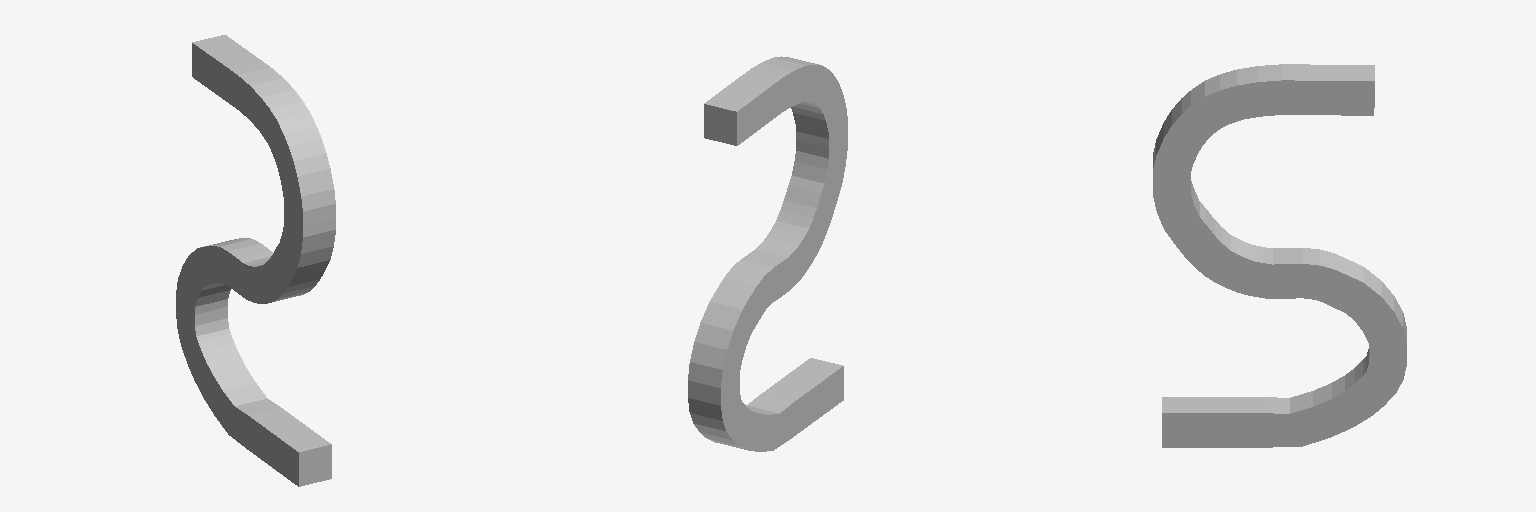
The model's file is Speed.obj.
3 renders of one model, left to right at view 1: azimuth 30°, elevation 25°; view 2: azimuth 150°, elevation 25°; view 3: azimuth 270°, elevation 25°, orthographic.
Visible parts, largest first — view 1: Cube; view 2: Cube; view 3: Cube.
Boxes of the visible parts, x1=… form: Cube: x1=176, y1=35, x2=335, y2=486; Cube: x1=688, y1=56, x2=847, y2=451; Cube: x1=1153, y1=64, x2=1406, y2=447.
Size of the model in its own units: 0.2 by 2.12 by 1.33.